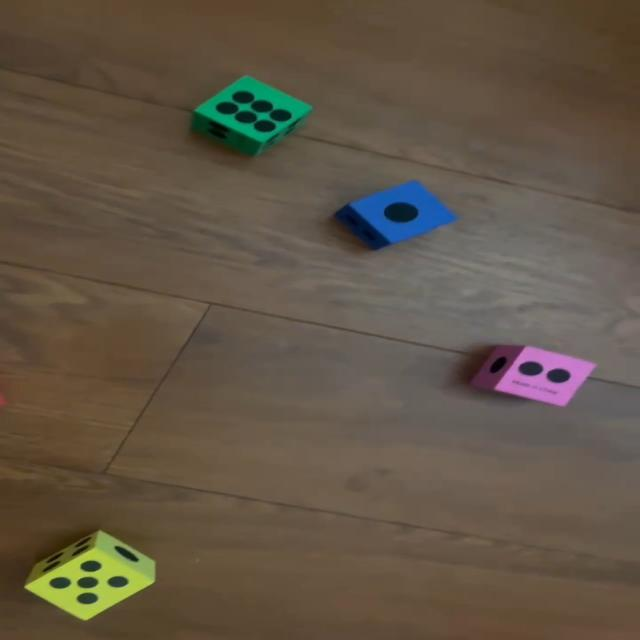blue_block: (340, 181, 458, 248)
